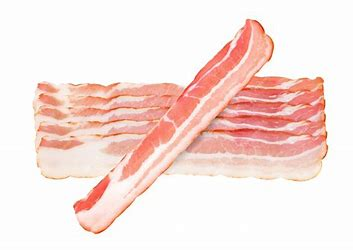Bacon: (25, 16, 337, 235), (27, 72, 330, 184)
